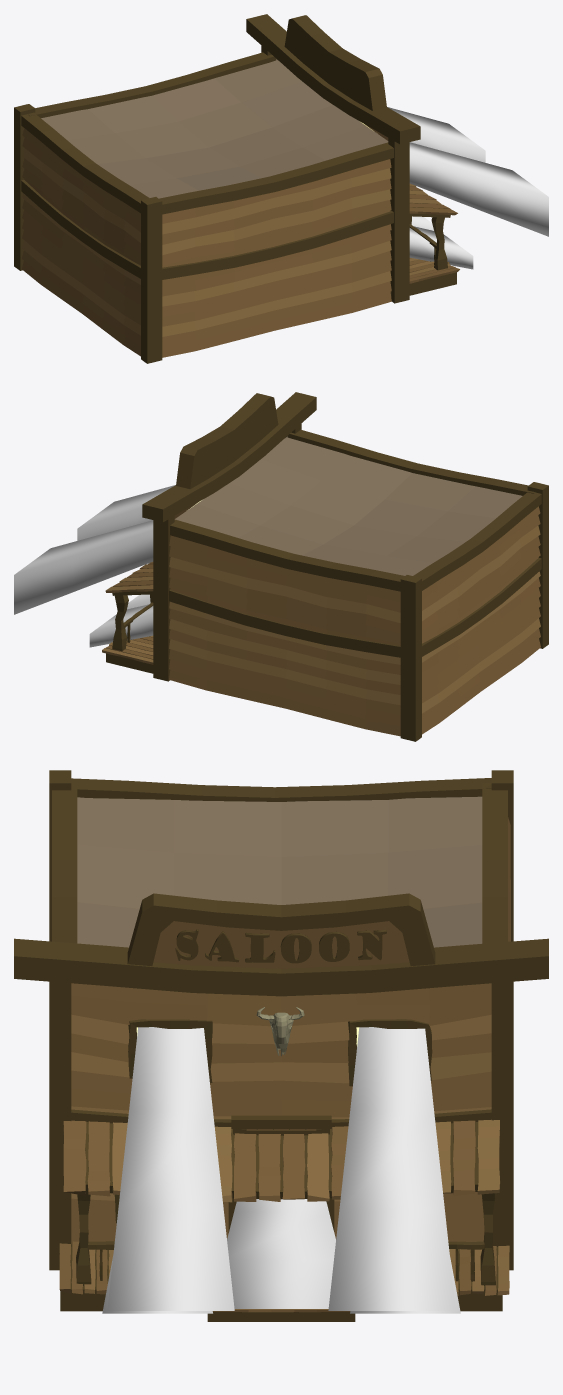
File: saloon_001.glb
The picture shows the model from 3 angles, top to bottom: view 1: azimuth 30°, elevation 25°; view 2: azimuth 150°, elevation 25°; view 3: azimuth 270°, elevation 25°; orthographic projection. The views are drawn at different scales.
Parts seen in each view (by area): view 1: Cube.004, WindowLightShafts; view 2: Cube.004, WindowLightShafts; view 3: Cube.004, WindowLightShafts, DoorFrame.
Boxes of the visible parts, bbox=[...] form: Cube.004: bbox=[14, 14, 459, 363]; WindowLightShafts: bbox=[387, 107, 548, 269]; Cube.004: bbox=[102, 392, 548, 741]; WindowLightShafts: bbox=[14, 485, 175, 647]; Cube.004: bbox=[14, 770, 548, 1321]; WindowLightShafts: bbox=[102, 1027, 460, 1313]; DoorFrame: bbox=[231, 1115, 331, 1215].
Bounding box in the file's own units: 15.22 × 7.3 × 9.68.
